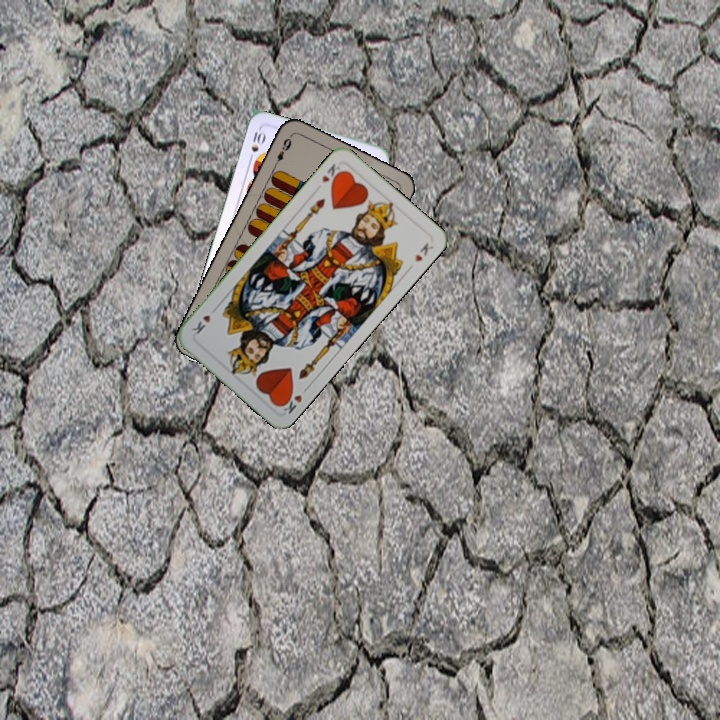E9: (270, 134, 294, 170)
HK: (275, 382, 311, 416), (318, 159, 345, 187)
S10: (245, 125, 267, 165)
